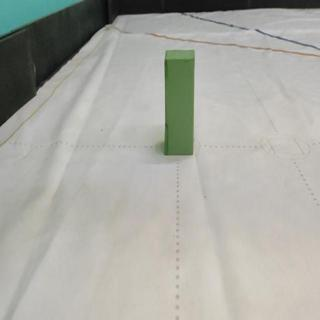greenbox: (163, 47, 197, 157)
